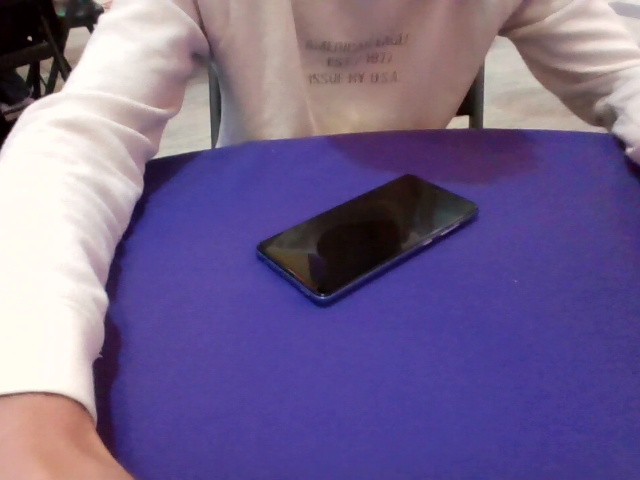celular: (255, 172, 480, 307)
